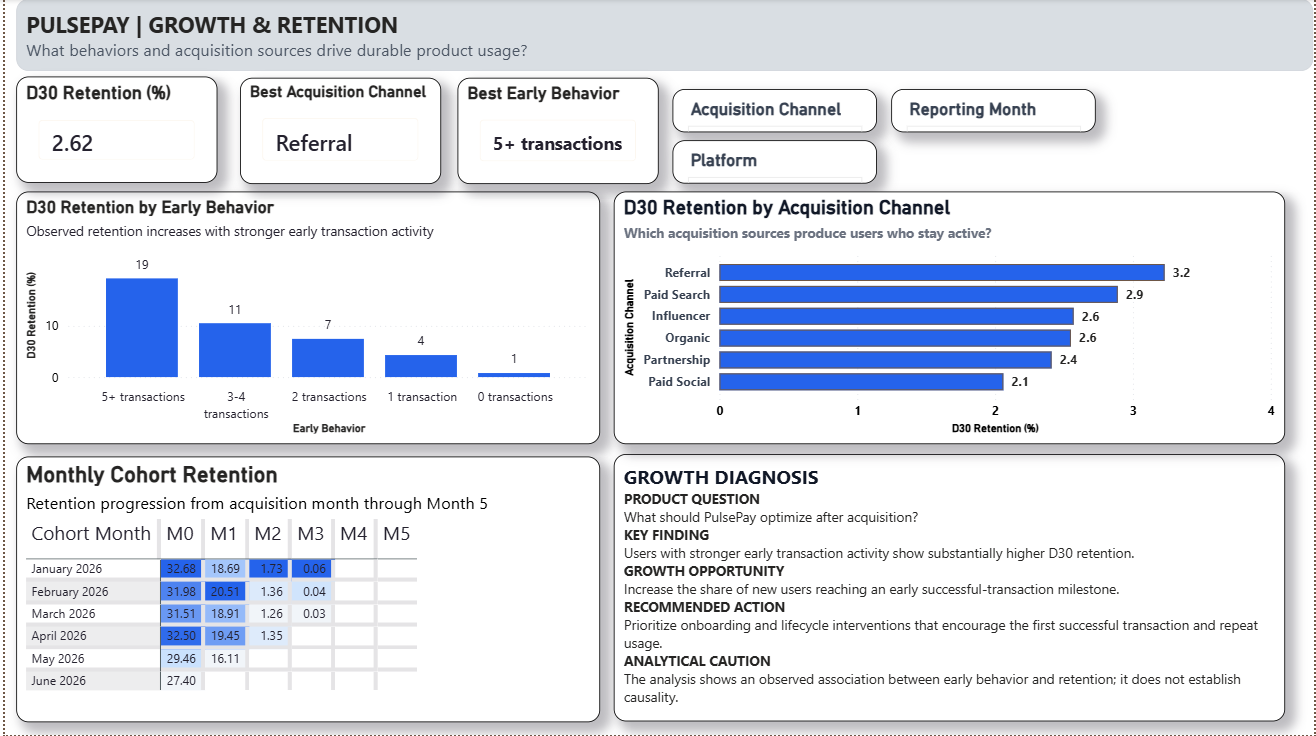

Layout of this report page (visuals, bound fields, positions):
{"tool":"powerbi","page":{"name":"02-PulsePay-Growth-Retention.pbix","canvas":[1280,720],"ordinal":1},"visuals":[{"type":"textbox","box":[11.4,0,1268.6,70],"z":0},{"type":"clusteredColumnChart","title":"D30 Retention by Early Behavior","fields":{"Y":["Sum(pulsepay_analytics vw_activation_retention.d30_retention_pct)"],"Category":["pulsepay_analytics vw_activation_retention.early_behavior_group"]},"box":[11.4,188.6,571.4,247.1],"z":1000},{"type":"pivotTable","title":"Monthly Cohort Retention","fields":{"Rows":["pulsepay_analytics vw_cohort_retention.cohort_month"],"Values":["Sum(pulsepay_analytics vw_cohort_retention.M0)","Sum(pulsepay_analytics vw_cohort_retention.M1)","Sum(pulsepay_analytics vw_cohort_retention.M2)","Sum(pulsepay_analytics vw_cohort_retention.M3)","Sum(pulsepay_analytics vw_cohort_retention.M4)","Sum(pulsepay_analytics vw_cohort_retention.M5)"]},"box":[11.4,447.1,571.4,260],"z":2000},{"type":"textbox","box":[595.7,445.7,657.1,261.4],"z":3000},{"type":"cardVisual","title":"D30 Retention (%)","fields":{"Data":["pulsepay_analytics vw_activation_retention.Overall D30 Retention"]},"box":[11.4,75.7,197,104],"z":4000},{"type":"cardVisual","title":"Best Acquisition Channel","fields":{"Data":["pulsepay_analytics vw_acquisition_quality.Best Acquisition Channel"]},"box":[230,77.1,197,104],"z":5000},{"type":"cardVisual","title":"Best Early Behavior","fields":{"Data":["pulsepay_analytics vw_activation_retention.Best Early Behavior"]},"box":[442.9,77.1,197.1,104.3],"z":6000},{"type":"slicer","fields":{"Values":["pulsepay_analytics vw_acquisition_quality.acquisition_channel"]},"box":[652.9,88.6,200,42],"z":7000},{"type":"slicer","title":"Platform ","fields":{"Values":["pulsepay_analytics vw_kyc_device_version.device_type"]},"box":[652.9,138.6,200,42],"z":8000},{"type":"slicer","title":"Reporting Month","fields":{"Values":["pulsepay_analytics vw_weekly_north_star.week_start.Variation.Date Hierarchy.Year","pulsepay_analytics vw_weekly_north_star.week_start.Variation.Date Hierarchy.Quarter","pulsepay_analytics vw_weekly_north_star.week_start.Variation.Date Hierarchy.Month","pulsepay_analytics vw_weekly_north_star.week_start.Variation.Date Hierarchy.Day"]},"box":[867.1,88.6,200,42],"z":9000},{"type":"clusteredBarChart","title":"D30 Retention by Acquisition Channel","fields":{"Category":["pulsepay_analytics vw_acquisition_quality.acquisition_channel"],"Y":["Max(pulsepay_analytics vw_acquisition_quality.d30_retention_pct)"]},"box":[595.7,188.6,657.1,247.1],"z":10000}]}

Visuals, with their boxes in screenshot pixels (x1, y1, x2, y2), scaled from the page's 1280x720 canvas onto the 1316x736 screenshot:
textbox: detection(12, 0, 1315, 72)
"D30 Retention by Early Behavior" clusteredColumnChart: detection(12, 193, 599, 445)
"Monthly Cohort Retention" pivotTable: detection(12, 457, 599, 723)
textbox: detection(612, 456, 1288, 723)
"D30 Retention (%)" cardVisual: detection(12, 77, 214, 184)
"Best Acquisition Channel" cardVisual: detection(236, 79, 439, 185)
"Best Early Behavior" cardVisual: detection(455, 79, 658, 185)
slicer - pulsepay_analytics vw_acquisition_quality.acquisition_channel: detection(671, 91, 877, 134)
"Platform " slicer: detection(671, 142, 877, 185)
"Reporting Month" slicer: detection(891, 91, 1097, 134)
"D30 Retention by Acquisition Channel" clusteredBarChart: detection(612, 193, 1288, 445)
